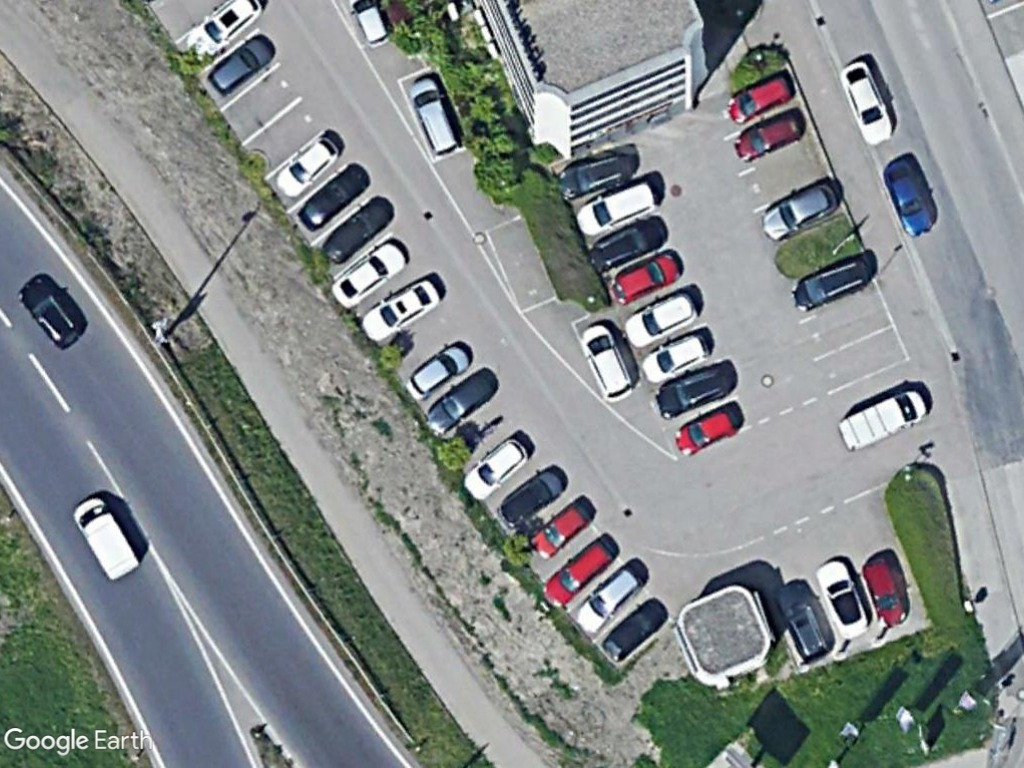car: (356, 273, 443, 348), (327, 238, 410, 312), (14, 272, 87, 352), (838, 52, 897, 148), (573, 175, 662, 238), (785, 255, 879, 314), (420, 366, 498, 437), (319, 193, 393, 266), (542, 535, 616, 608), (458, 432, 531, 504), (405, 72, 463, 160), (620, 288, 699, 351), (608, 243, 687, 306), (272, 132, 343, 202), (571, 563, 643, 632), (758, 180, 840, 240), (813, 556, 871, 640), (578, 318, 635, 403), (880, 156, 937, 240), (497, 463, 568, 530), (205, 31, 277, 97), (585, 214, 666, 272), (599, 594, 667, 663), (654, 364, 734, 422), (730, 106, 808, 165), (298, 164, 368, 229), (778, 578, 830, 664), (552, 146, 633, 201), (638, 327, 712, 387), (401, 340, 472, 402), (671, 400, 744, 457), (723, 71, 794, 128), (859, 553, 910, 630), (526, 501, 591, 560)
van: (70, 494, 143, 586), (835, 383, 928, 453)
